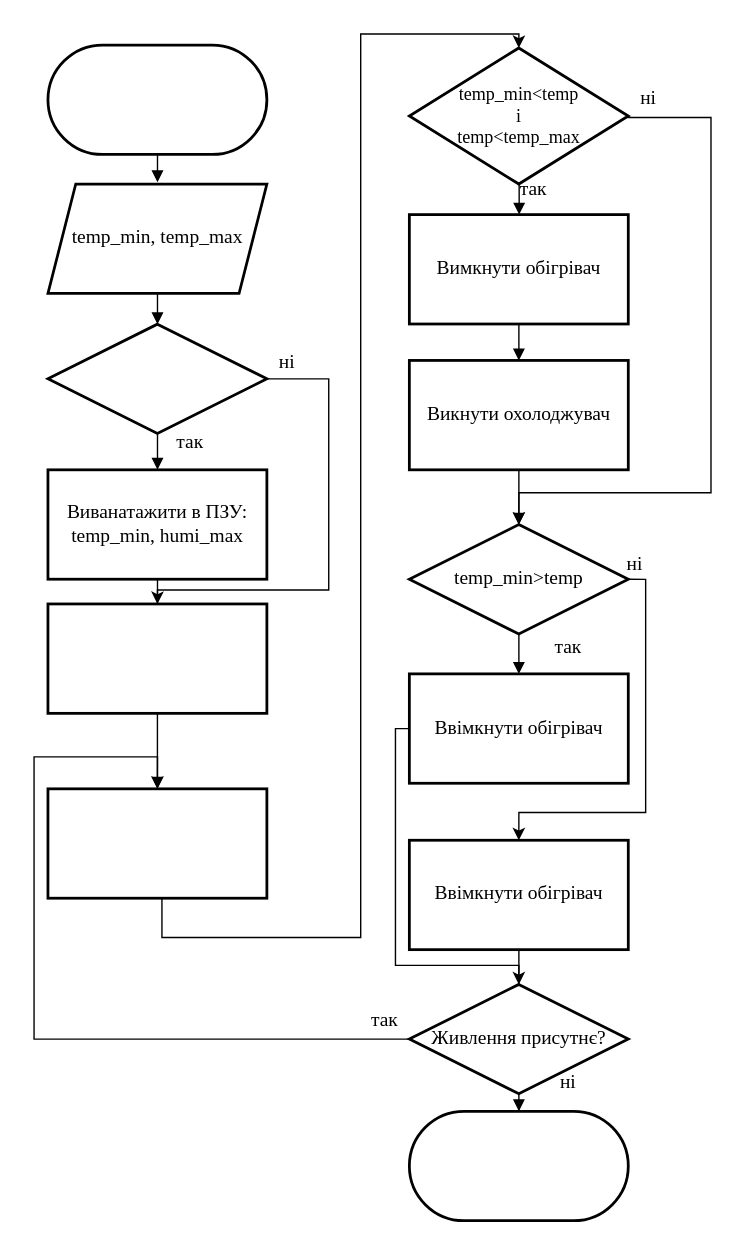
The diagram is 746 pixels wide and 1247 high, and some of its shapes have lost their labels. The centre of each missing label's shape, as x and y in pixels:
Данні отримано?: (157,378)
Завантажити з ПЗУ: temp_min, temp_max: (157,658)
Кінець: (518,1165)
Початок: (157,99)
Прочитати і зберегти значення вологості в temp: (157,843)
